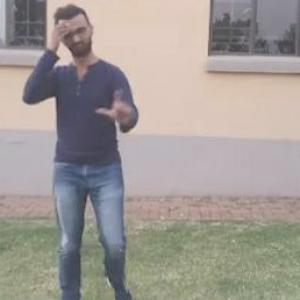land_hand: (94, 81, 137, 127)
